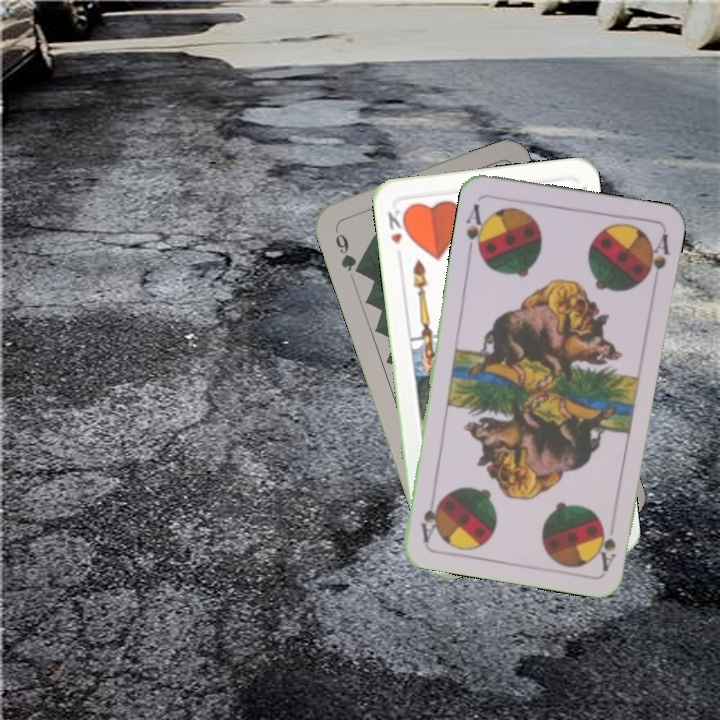G9: (330, 223, 365, 277)
HK: (384, 203, 411, 247)
SA: (462, 200, 490, 258), (594, 521, 619, 573)
